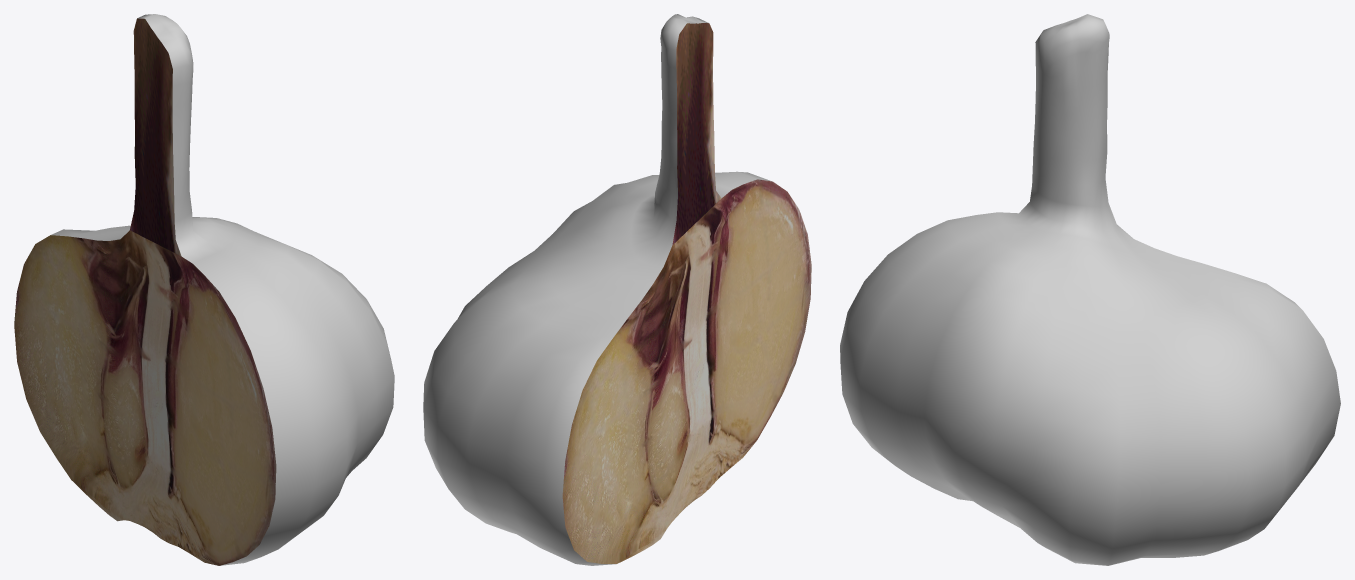
Rendered from Garlic-05.fbx.
The picture shows the model from 3 angles, left to right: view 1: azimuth 30°, elevation 25°; view 2: azimuth 150°, elevation 25°; view 3: azimuth 270°, elevation 25°; orthographic projection. The views are drawn at different scales.
Visible parts, largest first — view 1: Garlic; view 2: Garlic; view 3: Garlic.
Part boxes in pixels (x1,y1,x2,y2): Garlic: [14, 14, 394, 565]; Garlic: [423, 14, 811, 565]; Garlic: [840, 14, 1340, 565].
Bounding box in the file's own units: 7.4 × 15.73 × 14.41.
